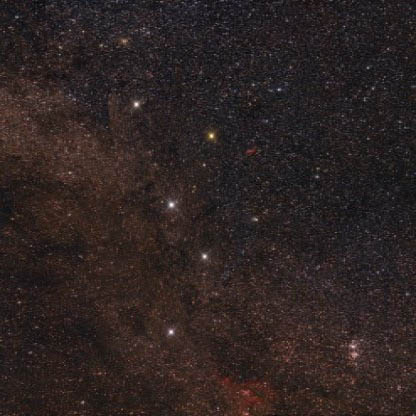Cassiopeia: (122, 93, 154, 124), (198, 123, 225, 154), (155, 317, 184, 344), (190, 241, 215, 266), (152, 194, 183, 213)
